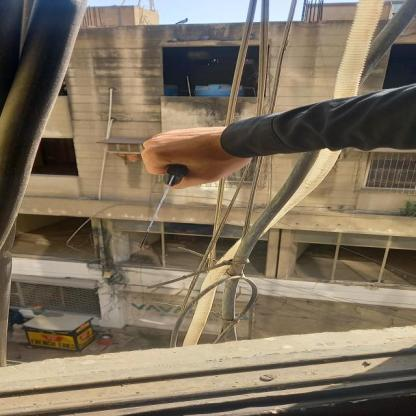Knife: (140, 164, 188, 250)
